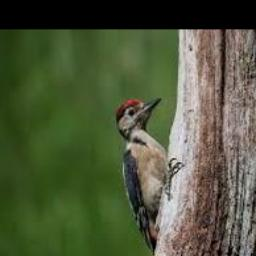Woodpecker: (116, 98, 169, 252)
